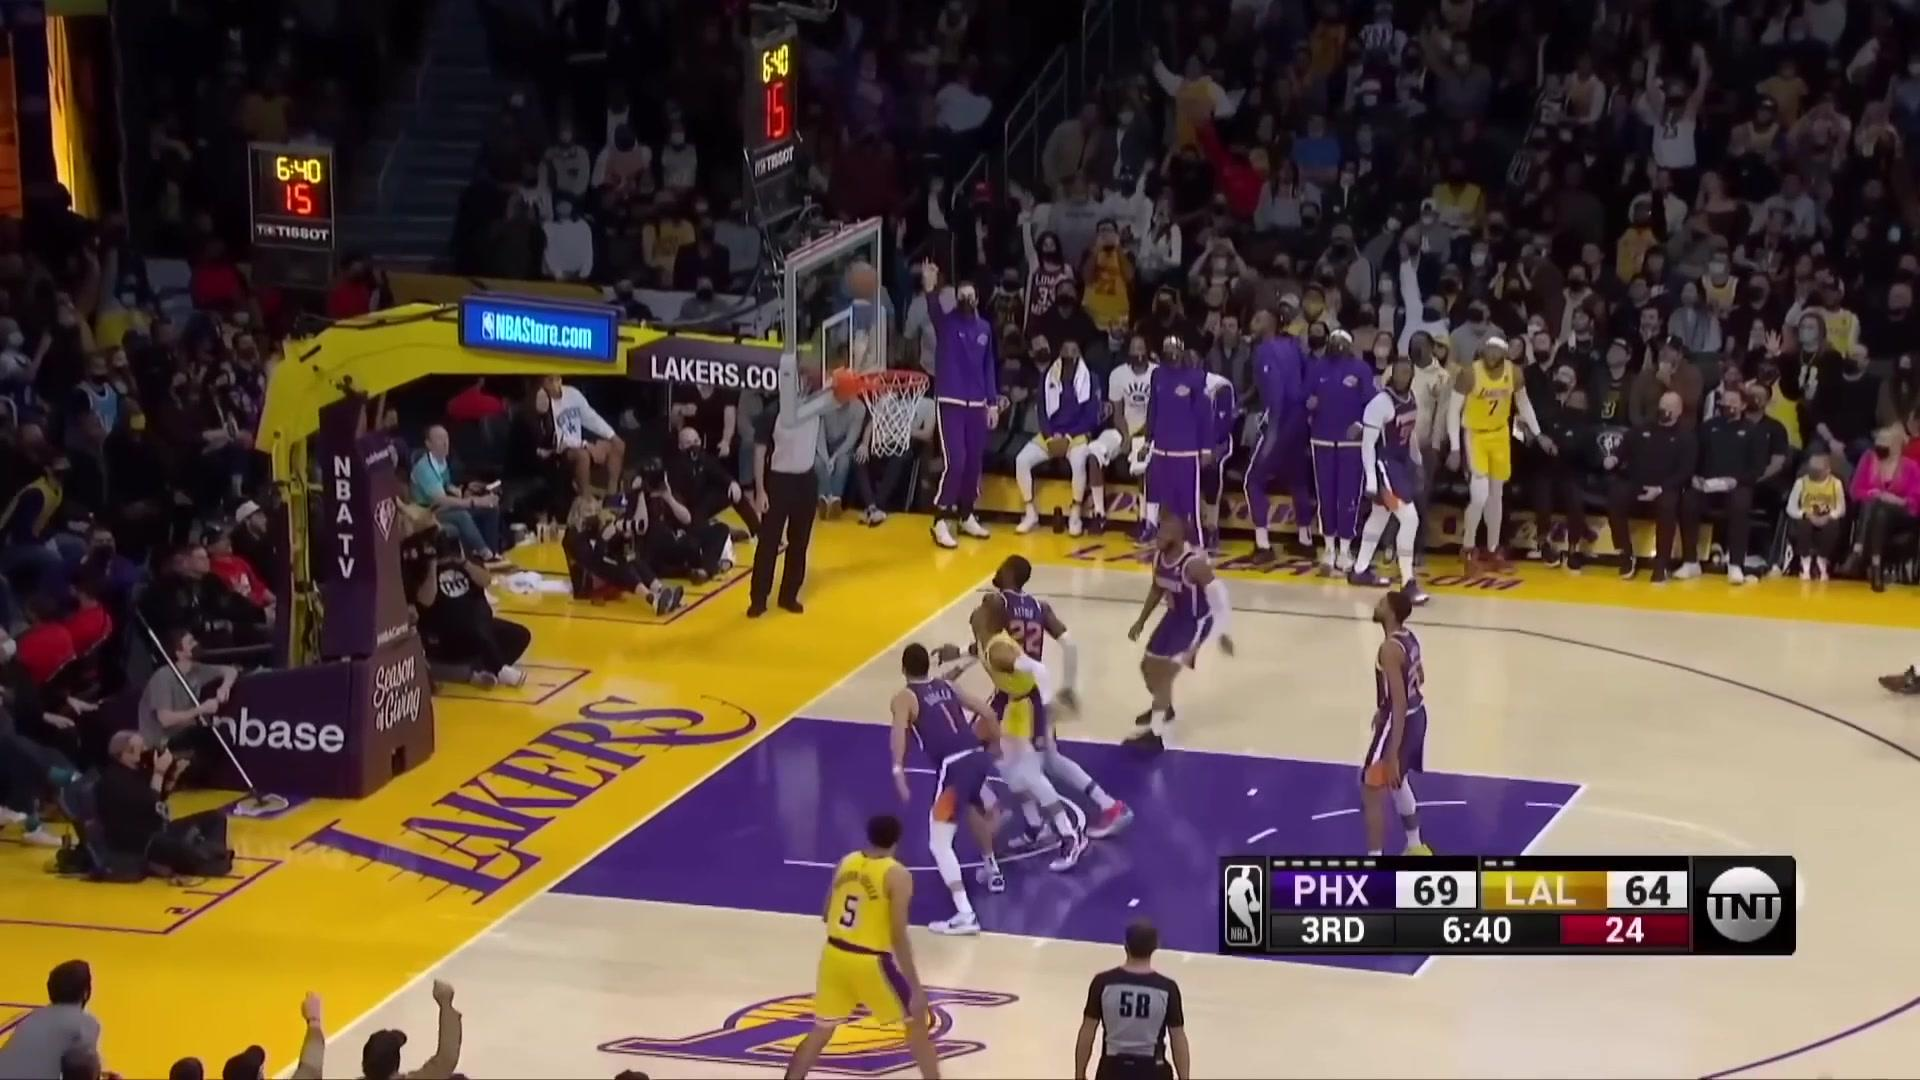foul: (841, 578, 1127, 889)
